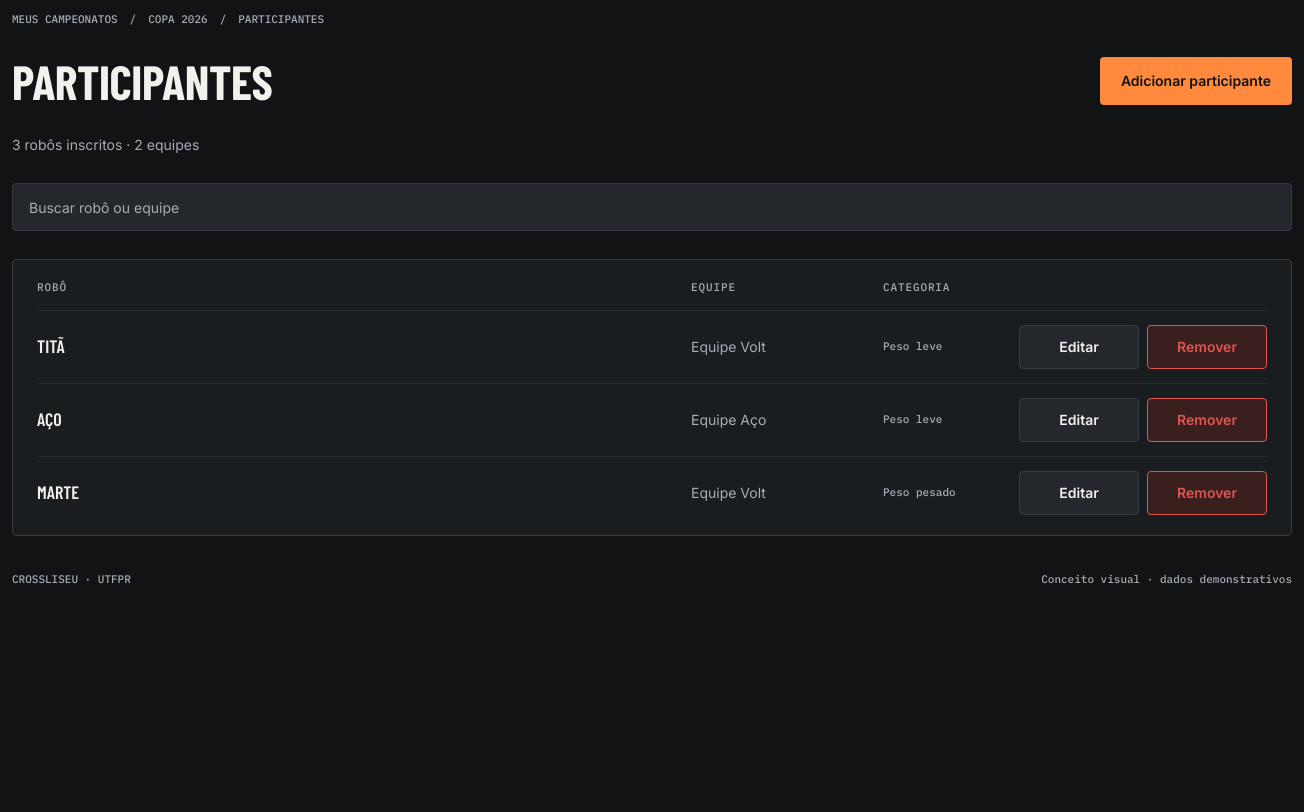
Test case: ParticipantsView › keeps the row and explains when the robot is in a match
Click the button "Remover" in the row of "Titã".
click(1207, 347)  # box [1147,325,1267,369]
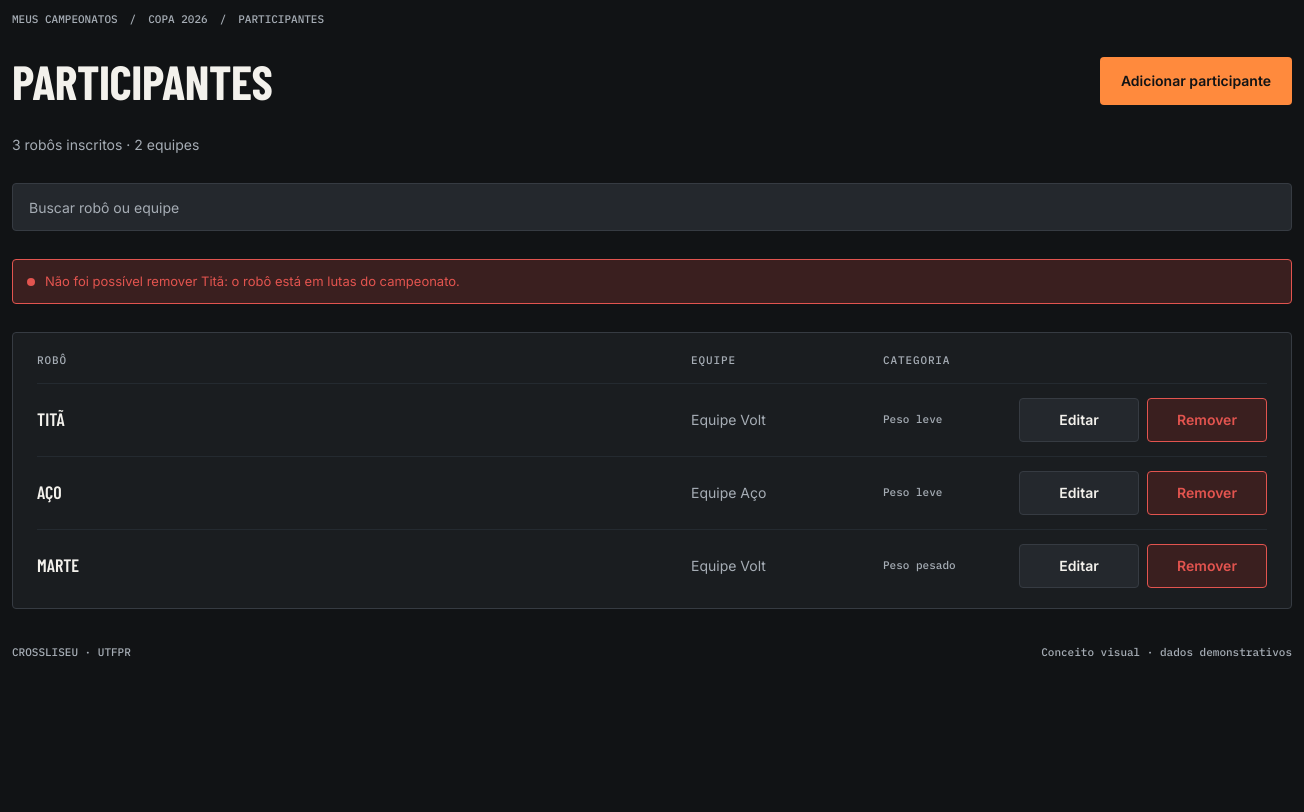
Check: the text "Titã" is shown, box [45,273,460,289]
Check: the message "Não foi possível remover Titã: o robô está em lutas do campeonato." is shown, box [12,259,1292,304]
